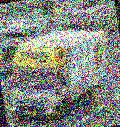truck: (0, 19, 119, 127)
